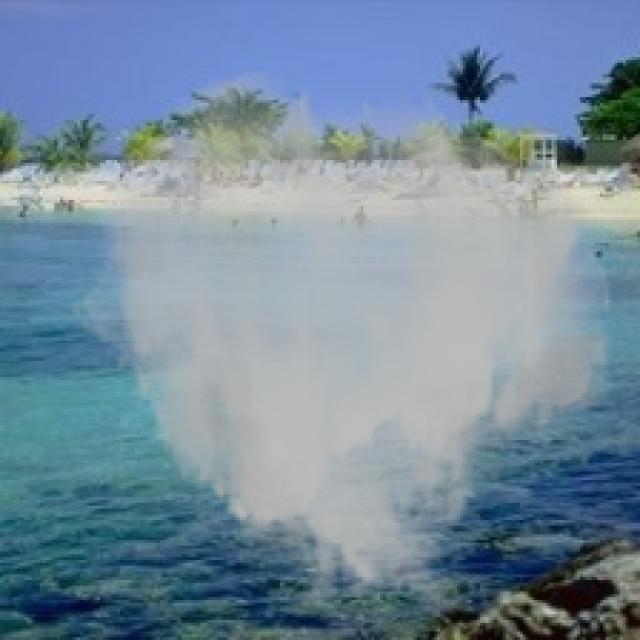Smoke: (68, 65, 618, 626)
